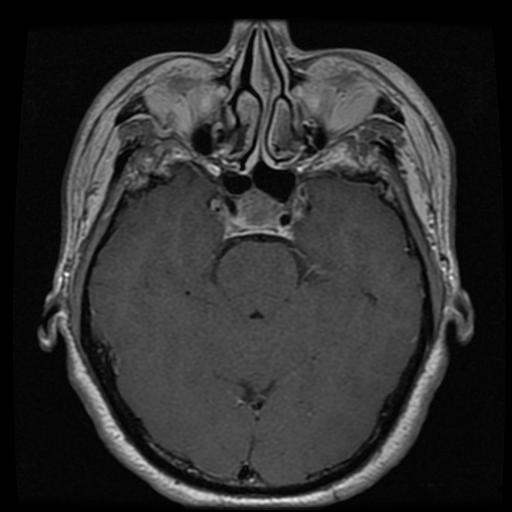Pituirity_tumour: (236, 190, 280, 227)
